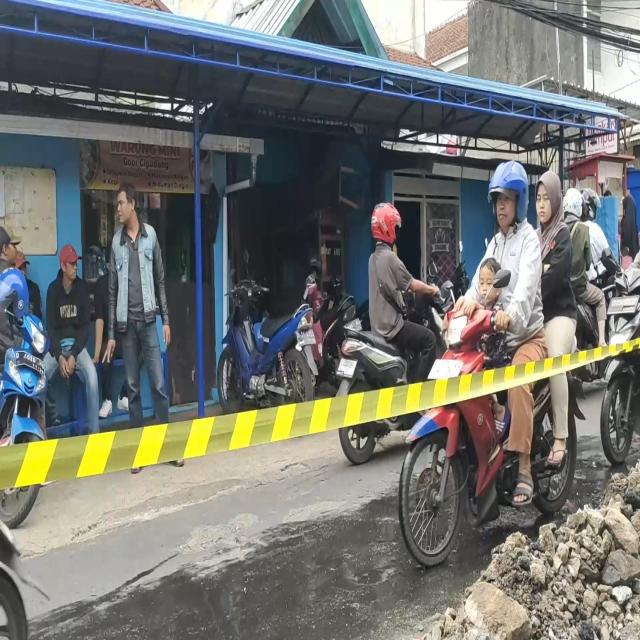helmet: (488, 166, 528, 229), (369, 203, 400, 248), (586, 184, 602, 222), (569, 182, 583, 223)
no-helmet: (536, 170, 564, 227), (480, 264, 501, 298)
